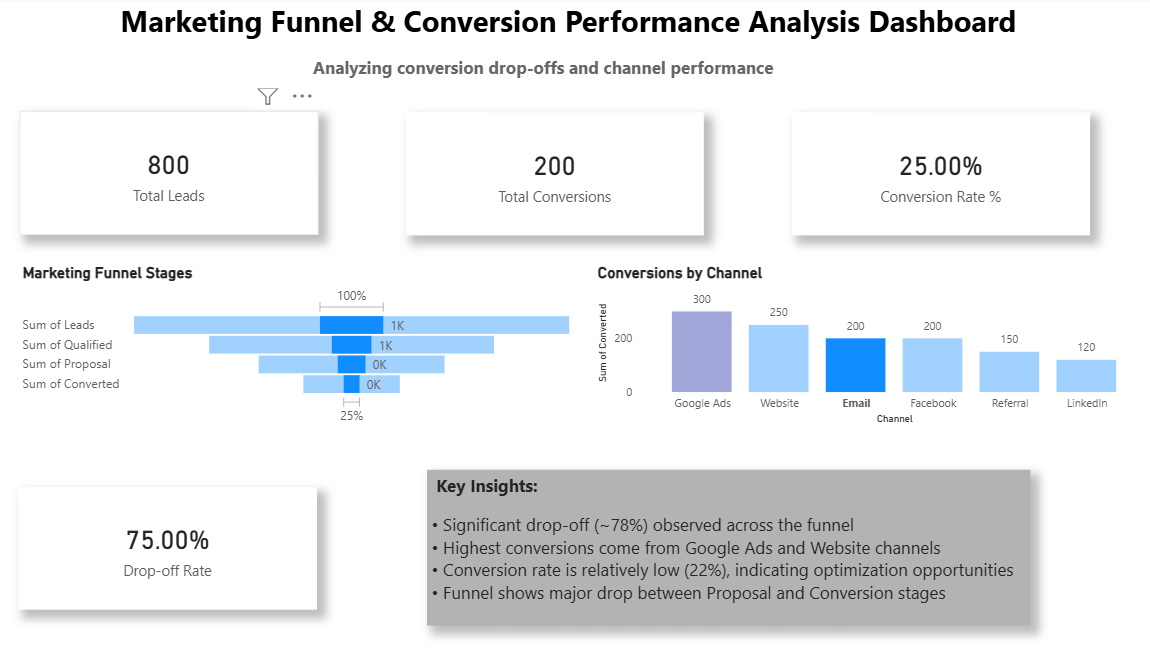

The dashboard page shown, as its layout file describes it:
{"tool":"powerbi","page":{"name":"Page 1","canvas":[1280,720],"ordinal":0},"visuals":[{"type":"card","fields":{"Values":["Sum(marketing_funnel_dataset.Leads)"]},"box":[34.3,127.6,328,135.8],"z":0},{"type":"card","fields":{"Values":["Sum(marketing_funnel_dataset.Converted)"]},"box":[459.5,127.6,327,135],"z":1000},{"type":"card","fields":{"Values":["marketing_funnel_dataset.Conversion Rate %"]},"box":[883.7,127.6,327,135],"z":2000},{"type":"textbox","box":[34.3,0,1181.5,60.4],"z":3000},{"type":"textbox","box":[20.6,60.4,1180.1,41.2],"z":4000},{"type":"funnel","title":"Marketing Funnel Stages","fields":{"Y":["Sum(marketing_funnel_dataset.Leads)","Sum(marketing_funnel_dataset.Qualified)","Sum(marketing_funnel_dataset.Proposal)","Sum(marketing_funnel_dataset.Converted)"]},"box":[34.3,293.7,615,181.1],"z":5000},{"type":"clusteredColumnChart","title":"Conversions by Channel","fields":{"Category":["marketing_funnel_dataset.Channel"],"Y":["Sum(marketing_funnel_dataset.Converted)"]},"box":[665.5,293.7,615,181.1],"z":6000},{"type":"card","fields":{"Values":["marketing_funnel_dataset.Drop-off Rate"]},"box":[34.3,539.3,328,134.5],"z":7000},{"type":"textbox","box":[483,520.1,662.8,171.5],"z":8000}]}

Visuals, with their boxes in screenshot pixels (x1, y1, x2, y2), scaled from the page's 1280x720 canvas onto the 1150x650 screenshot:
card - Sum(marketing_funnel_dataset.Leads): box(31, 115, 326, 238)
card - Sum(marketing_funnel_dataset.Converted): box(413, 115, 707, 237)
card - marketing_funnel_dataset.Conversion Rate %: box(794, 115, 1088, 237)
textbox: box(31, 0, 1092, 55)
textbox: box(19, 55, 1079, 92)
"Marketing Funnel Stages" funnel: box(31, 265, 583, 429)
"Conversions by Channel" clusteredColumnChart: box(598, 265, 1149, 429)
card - marketing_funnel_dataset.Drop-off Rate: box(31, 487, 326, 608)
textbox: box(434, 470, 1029, 624)
